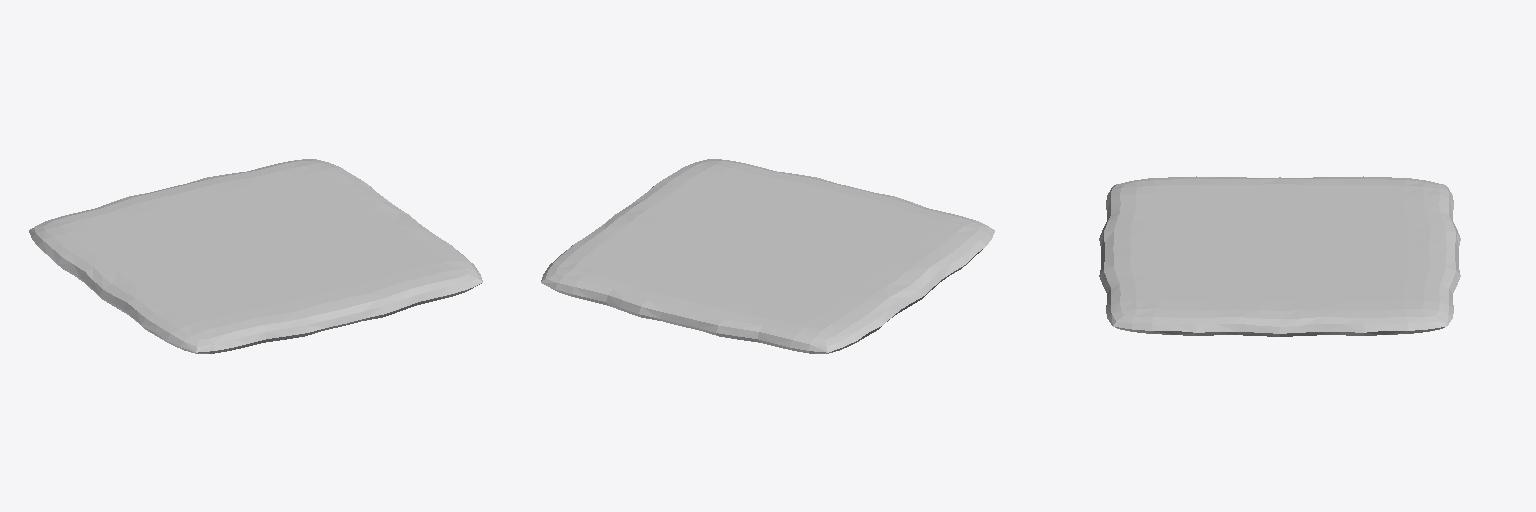
Rendered from Grass.obj.
3 views of the same model, side by side, from view 1: azimuth 30°, elevation 25°; view 2: azimuth 150°, elevation 25°; view 3: azimuth 270°, elevation 25° (orthographic).
Parts seen in each view (by area): view 1: Group41128; view 2: Group41128; view 3: Group41128.
Part boxes in pixels (left/top/right/bottom): Group41128: left=29, top=159, right=482, bottom=353; Group41128: left=541, top=159, right=994, bottom=353; Group41128: left=1099, top=176, right=1460, bottom=336.
Bounding box in the file's own units: 0.3789 × 0.02 × 0.3775.